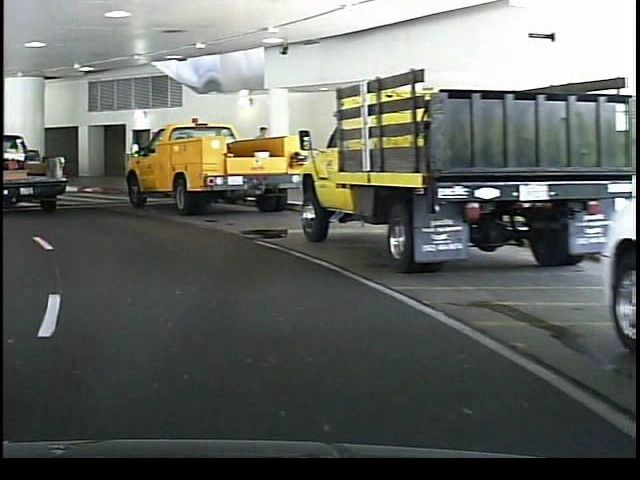person: (248, 122, 272, 198)
